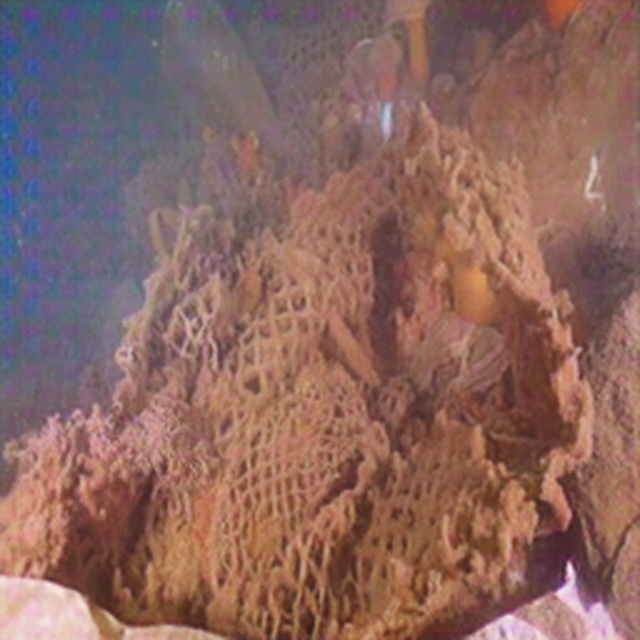mine: (67, 0, 479, 640)
